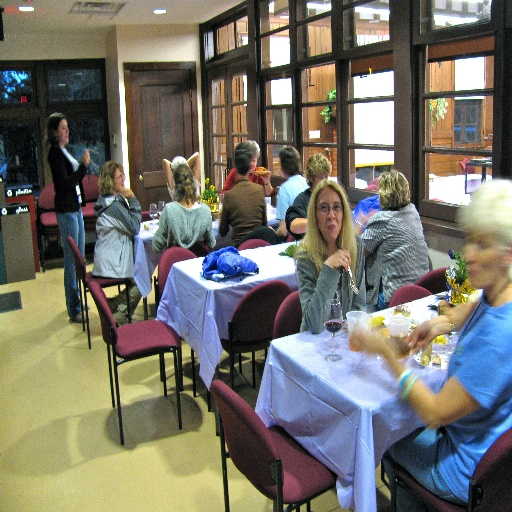hand: (403, 318, 437, 357), (354, 326, 390, 358), (325, 249, 351, 269), (83, 147, 91, 169), (120, 186, 133, 199), (260, 170, 271, 183)
